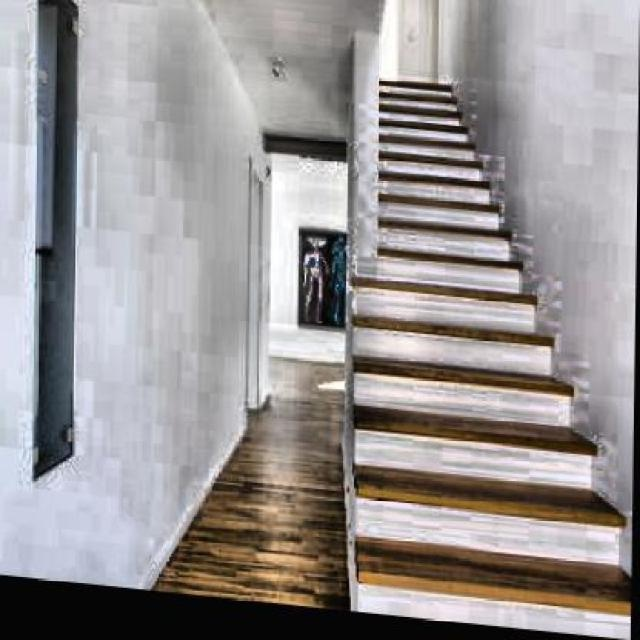stair: (358, 77, 580, 606)
